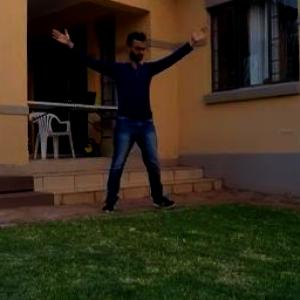takeoff: (49, 25, 212, 206)
